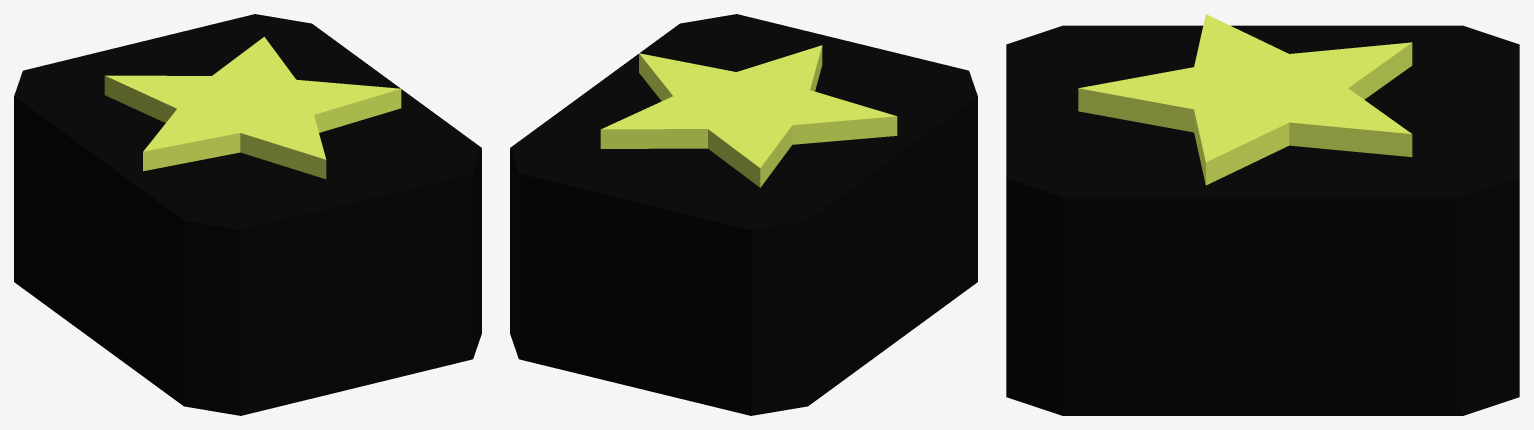
The model's file is Titan.glb.
3 renders of one model, left to right at view 1: azimuth 30°, elevation 25°; view 2: azimuth 150°, elevation 25°; view 3: azimuth 270°, elevation 25°, orthographic. The views are drawn at different scales.
Parts seen in each view (by area): view 1: Cube, Circle; view 2: Cube, Circle; view 3: Cube, Circle.
Boxes of the visible parts, bbox=[...] form: Cube: bbox=[14, 14, 481, 415]; Circle: bbox=[104, 36, 401, 179]; Cube: bbox=[510, 14, 977, 415]; Circle: bbox=[600, 45, 897, 187]; Cube: bbox=[1006, 25, 1519, 415]; Circle: bbox=[1078, 14, 1412, 185].
Size of the model in its own units: 0.2749 by 0.1811 by 0.3482.
